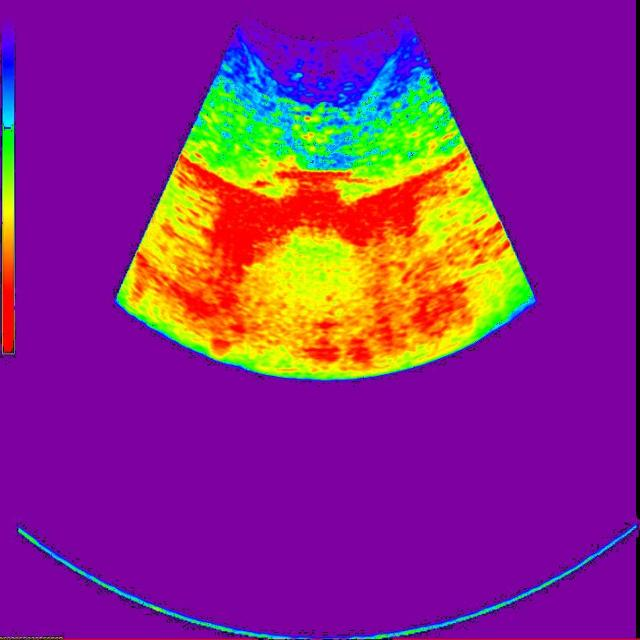lamb liver pre: (277, 98, 366, 173)
